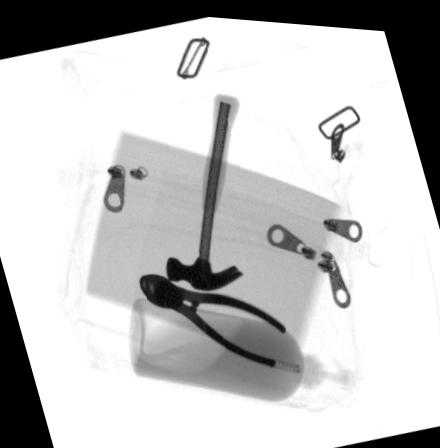Hammer: (165, 88, 243, 287)
Pliers: (137, 269, 287, 361)
